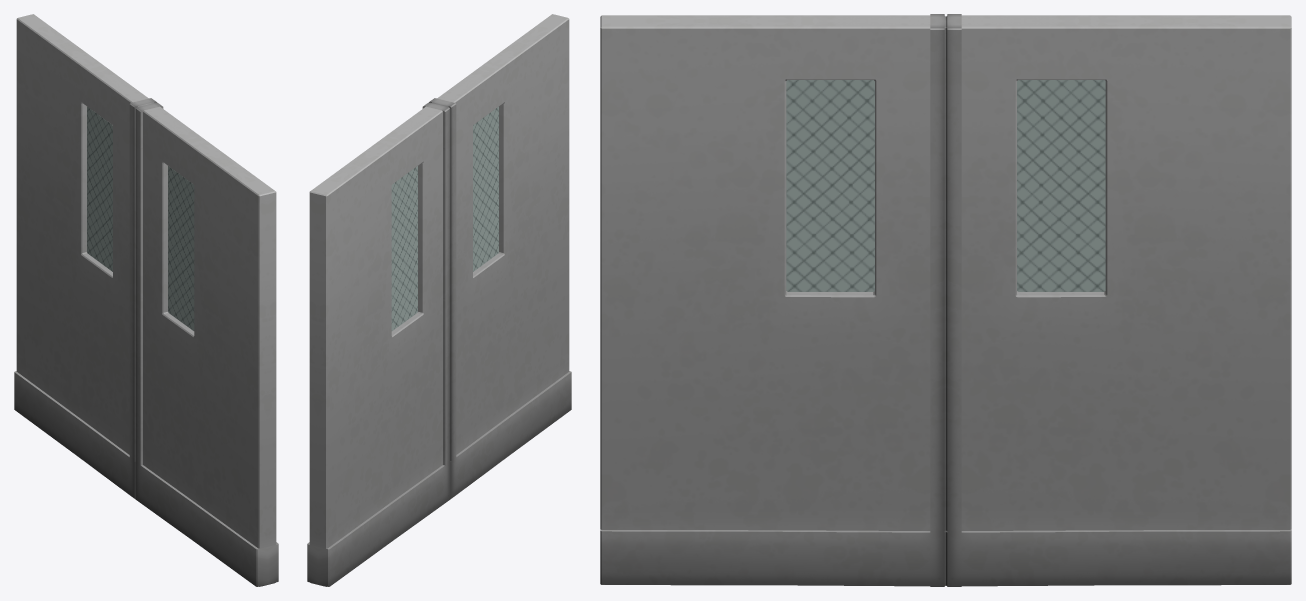
File: Digdig double door.fbx
3 views of the same model, side by side, from view 1: azimuth 30°, elevation 25°; view 2: azimuth 150°, elevation 25°; view 3: azimuth 270°, elevation 25° (orthographic). The views are drawn at different scales.
Visible parts, largest first — view 1: polySurface83; view 2: polySurface83; view 3: polySurface83.
Boxes of the visible parts, x1,y1,x2,y2 form: polySurface83: (14, 14, 278, 586); polySurface83: (307, 14, 571, 586); polySurface83: (600, 14, 1291, 586).
Bounding box in the file's own units: 0.0409 × 0.6831 × 0.7657.
